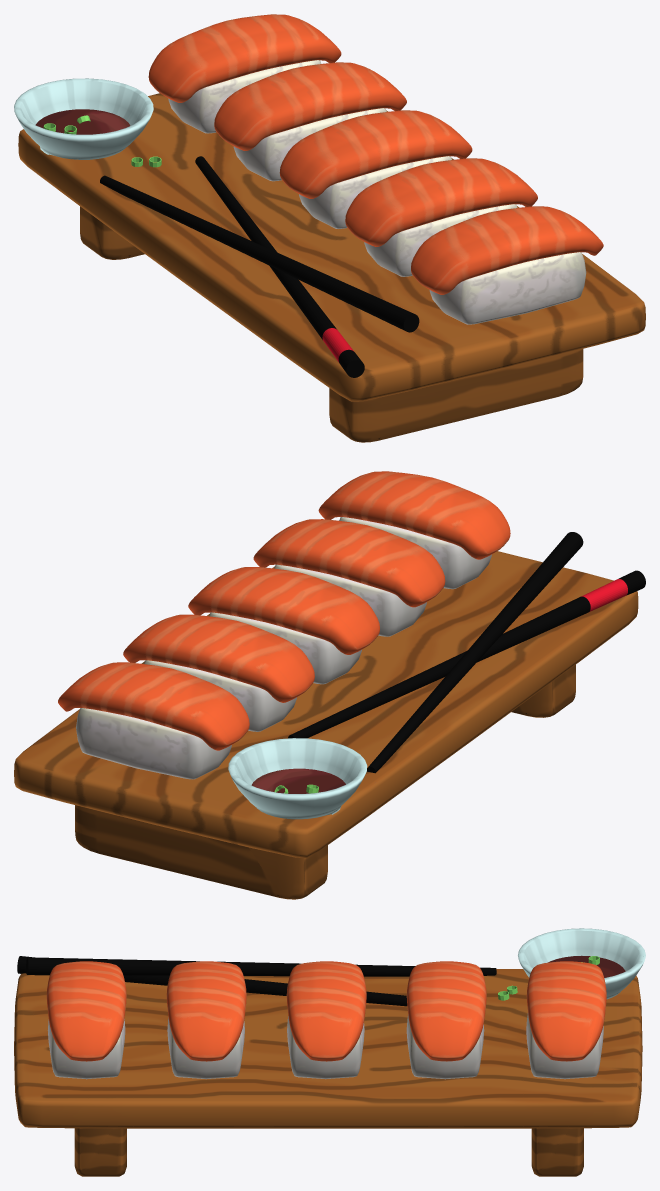
The model's file is sushi.glb.
3 renders of one model, top to bottom at view 1: azimuth 30°, elevation 25°; view 2: azimuth 150°, elevation 25°; view 3: azimuth 270°, elevation 25°, orthographic. The views are drawn at different scales.
Parts seen in each view (by area): view 1: base, pez, Arroz, patas, algo, palo 2, palo 1, Cylinder; view 2: base, pez, Arroz, patas, algo, palo 1, palo 2, Cylinder; view 3: base, pez, Arroz, patas, algo, palo 2, palo 1, Cylinder.
Part boxes in pixels (box(x1,y1,x2,y2)): base: box(18, 93, 645, 401); pez: box(148, 14, 603, 294); Arroz: box(168, 60, 586, 324); patas: box(80, 206, 583, 442); algo: box(14, 78, 153, 159); palo 2: box(100, 175, 419, 332); palo 1: box(195, 156, 364, 377); Cylinder: box(35, 109, 130, 134); base: box(14, 551, 638, 857); pez: box(58, 471, 510, 750); Arroz: box(76, 517, 491, 779); patas: box(75, 664, 575, 899); algo: box(228, 738, 367, 819); palo 1: box(288, 570, 645, 738); palo 2: box(367, 532, 583, 773); Cylinder: box(251, 768, 345, 793); base: box(14, 969, 642, 1128); pez: box(46, 961, 606, 1061); Arroz: box(47, 1013, 603, 1079); patas: box(74, 1128, 583, 1176); algo: box(518, 928, 645, 999); palo 2: box(26, 957, 496, 976); palo 1: box(17, 956, 407, 1006); Cylinder: box(548, 955, 625, 977).
Bounding box in the file's own units: 0.2939 × 0.161 × 0.5452.
10 materials, 6 textured.
